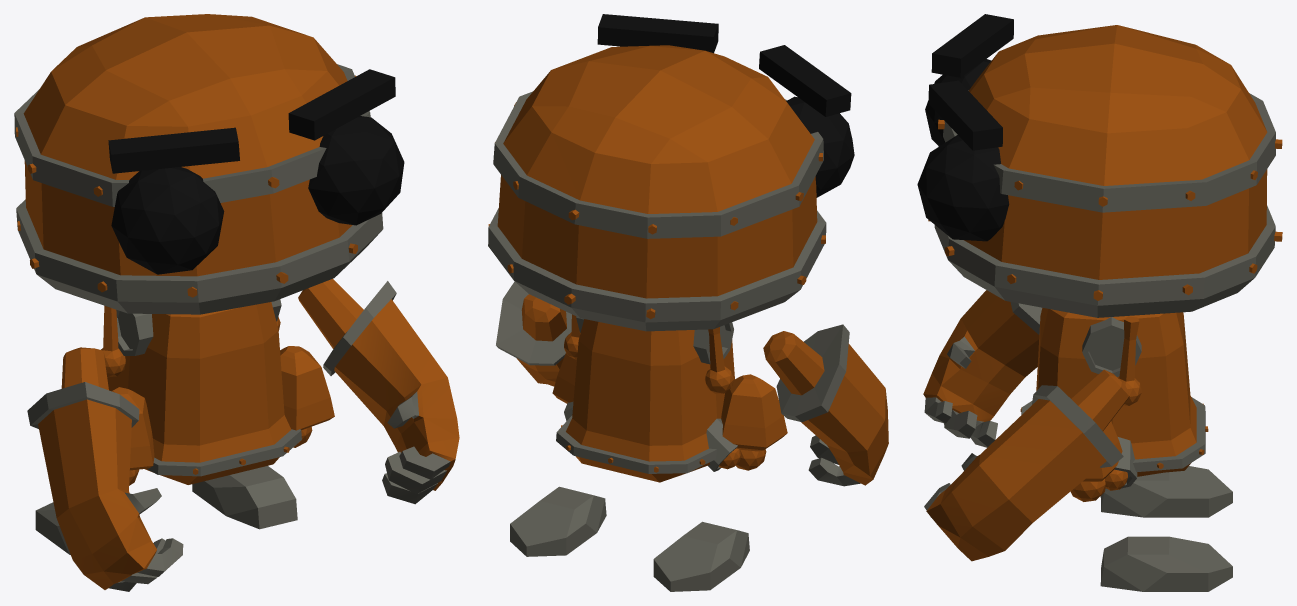
File: robot.obj
3 renders of one model, left to right at view 1: azimuth 30°, elevation 25°; view 2: azimuth 150°, elevation 25°; view 3: azimuth 270°, elevation 25°, orthographic. The views are drawn at different scales.
Visible parts, largest first — view 1: Head, Torso, Hand.R, Hand.L, Foot.L, LowerLeg.L, LowerLeg.R, Leg.R, Foot.R; view 2: Head, Torso, Hand.R, Hand.L, Foot.R, Foot.L, LowerLeg.R, Leg.R, LowerLeg.L; view 3: Head, Hand.L, Torso, Hand.R, Foot.L, Foot.R, Leg.L, LowerLeg.L.
Boxes of the visible parts, x1,y1,x2,y2 form: Head: (14, 14, 404, 314); Torso: (107, 299, 301, 484); Hand.R: (27, 347, 183, 591); Hand.L: (298, 278, 459, 504); Foot.L: (192, 466, 297, 529); LowerLeg.L: (280, 346, 334, 447); LowerLeg.R: (112, 387, 154, 485); Leg.R: (101, 305, 125, 377); Foot.R: (35, 502, 70, 554); Head: (488, 14, 854, 331); Torso: (556, 316, 740, 482); Hand.R: (763, 324, 888, 486); Hand.L: (496, 281, 571, 386); Foot.R: (653, 521, 749, 591); Foot.L: (510, 486, 606, 556); LowerLeg.R: (721, 374, 787, 470); Leg.R: (705, 327, 733, 393); LowerLeg.L: (552, 353, 576, 403); Head: (917, 14, 1282, 317); Hand.L: (924, 369, 1129, 561); Torso: (1020, 307, 1208, 490); Hand.R: (923, 290, 1042, 447); Foot.L: (1100, 536, 1232, 591); Foot.R: (1100, 466, 1232, 517); Leg.L: (1118, 316, 1141, 405); LowerLeg.L: (1070, 421, 1122, 501).
Size of the model in its own units: 3.1 by 3.9 by 2.62.
